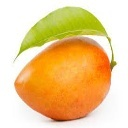mango: (12, 36, 116, 122)
